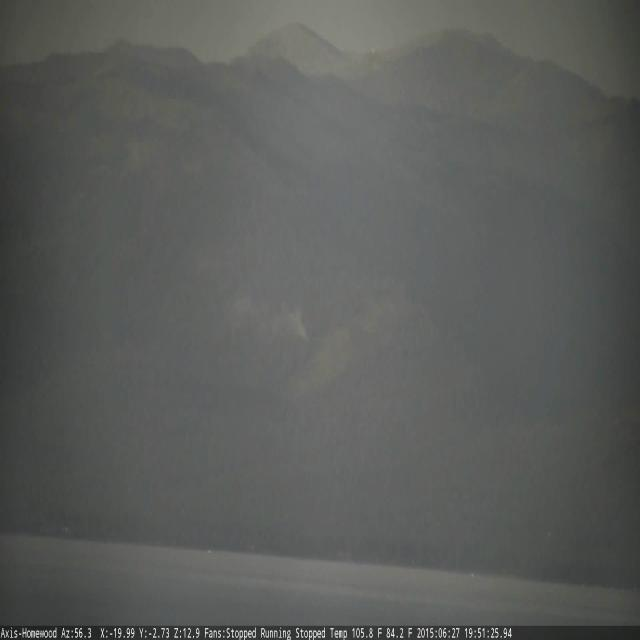smoke: (275, 303, 312, 341)
